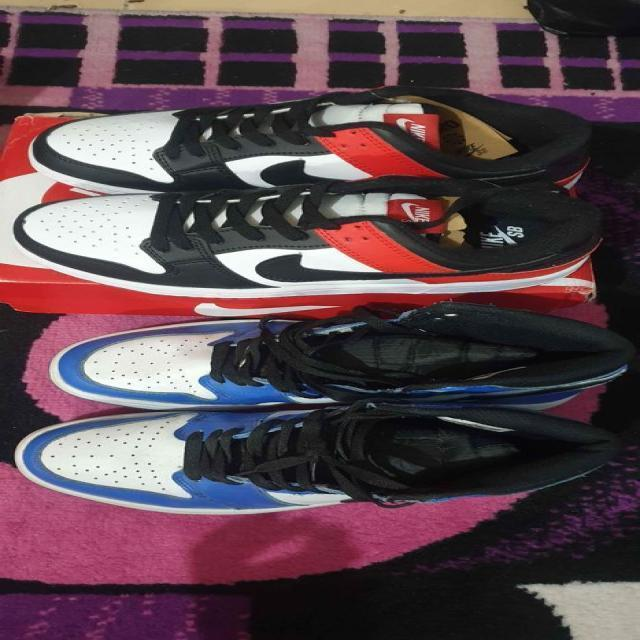nike fake jordan 1: (3, 176, 627, 298), (7, 398, 630, 515), (37, 300, 640, 415), (34, 101, 541, 200)
